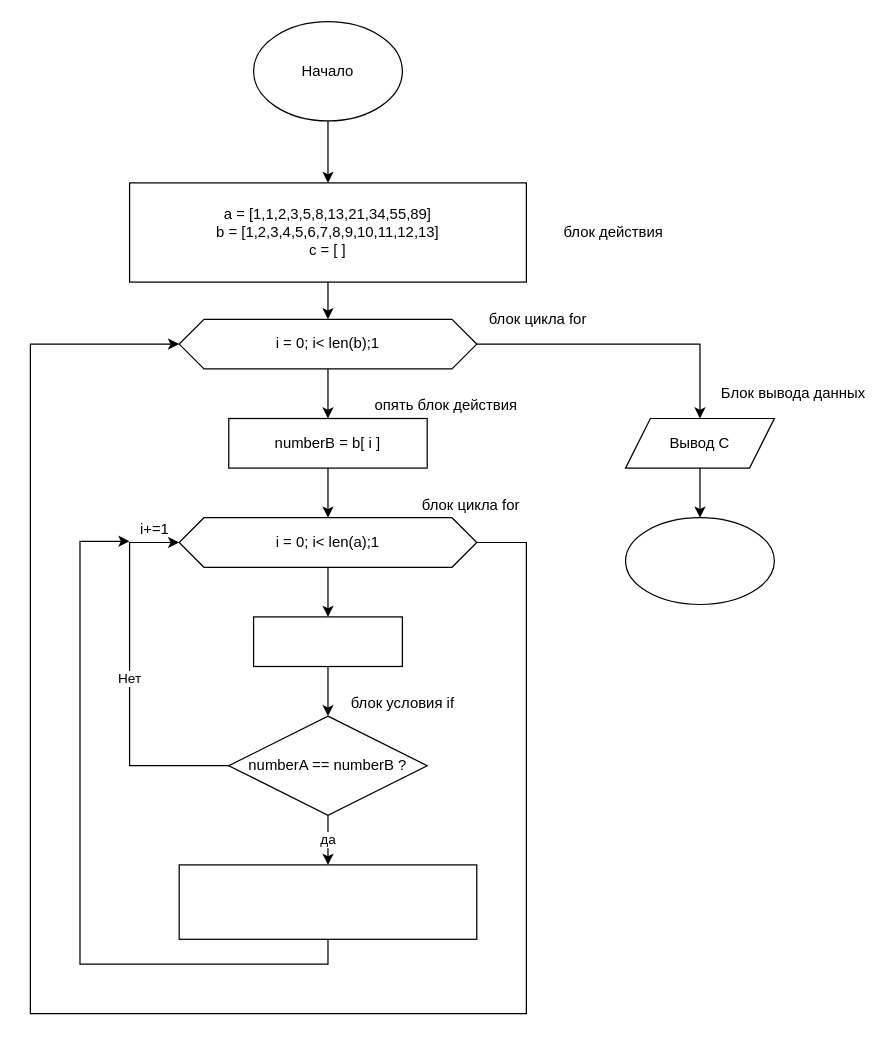
Some shapes in this 895 by 1045 pixel diagram are drawn without their labels. Each missing label, with the centre of its shape:
"numberA = a[ i ]" belongs at point (327, 641).
"Добавить в массив C число number A c.append(numberA)" belongs at point (327, 901).
"конец" belongs at point (699, 560).
